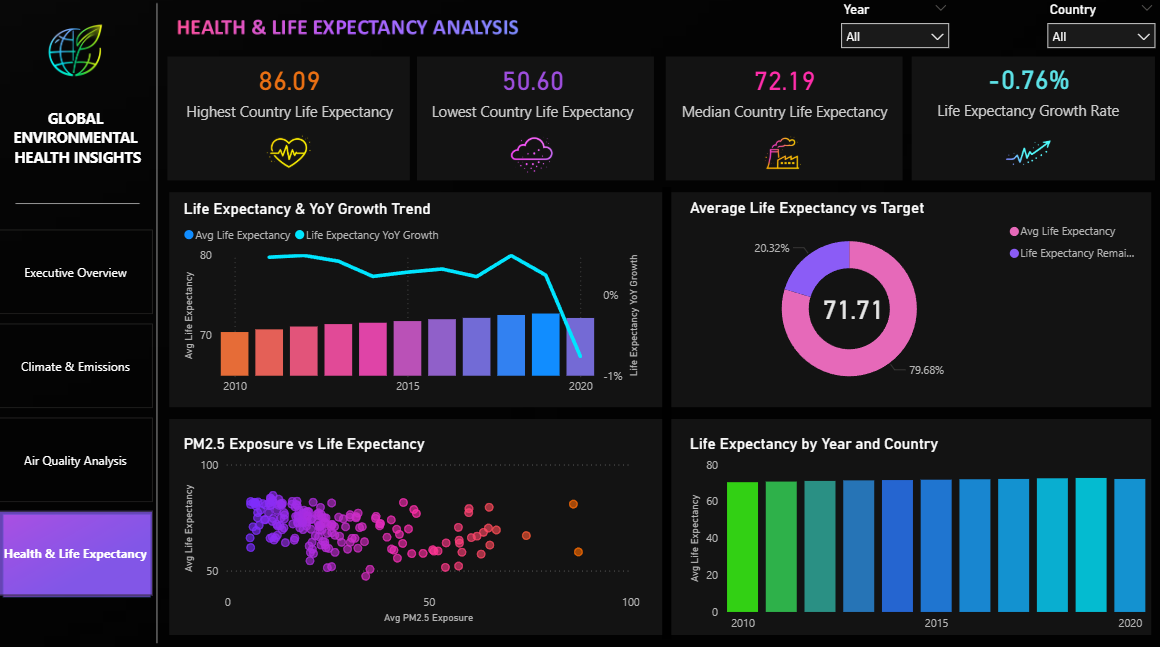

This screenshot's page, from the dashboard's own definition file:
{"tool":"powerbi","page":{"name":"Health & Life Expectancy","canvas":[1280,720],"ordinal":3},"visuals":[{"type":"pageNavigator","box":[0,255.2,170.2,403.4],"z":0},{"type":"image","box":[43.9,17.8,82.3,83.7],"z":1000},{"type":"textbox","box":[0,116.6,170.2,85.1],"z":2000},{"type":"card","fields":{"Values":["Calculated_Measures.Life Expectancy Growth Rate"]},"box":[1010,57.5,242.5,85],"z":3000},{"type":"card","fields":{"Values":["Calculated_Measures.Highest Country Life Expectancy"]},"box":[198.8,58.8,242.5,85],"z":4000},{"type":"card","fields":{"Values":["Calculated_Measures.Median Country Life Expectancy"]},"box":[742.5,58.8,242.5,85],"z":5000},{"type":"card","fields":{"Values":["Calculated_Measures.Lowest Country Life Expectancy"]},"box":[465,58.8,243.8,85],"z":6000},{"type":"lineClusteredColumnComboChart","title":"Life Expectancy & YoY Growth Trend","fields":{"Y":["Calculated_Measures.Avg Life Expectancy"],"Category":["Date_Table.Year"],"Y2":["Calculated_Measures.Life Expectancy YoY Growth"]},"box":[199,222.3,510.5,223.7],"z":7000},{"type":"donutChart","title":"Average Life Expectancy vs Target","fields":{"Y":["Calculated_Measures.Avg Life Expectancy","Calculated_Measures.Life Expectancy Remaining"]},"box":[755,221.2,510,223.8],"z":8000},{"type":"clusteredColumnChart","title":"Life Expectancy by Year and Country","fields":{"Category":["Date_Table.Year","Country_Table.Country"],"Y":["Calculated_Measures.Avg Life Expectancy"]},"box":[755,480,510,225],"z":9000},{"type":"scatterChart","title":"PM2.5 Exposure vs Life Expectancy","fields":{"X":["Calculated_Measures.Avg PM2.5 Exposure"],"Y":["Calculated_Measures.Avg Life Expectancy"],"Category":["Country_Table.Country"]},"box":[199,480.3,510.5,212.7],"z":10000},{"type":"image","box":[280,150,80,51.2],"z":11000},{"type":"image","box":[547.5,150,80,51.2],"z":12000},{"type":"image","box":[823.8,150,80,51.2],"z":13000},{"type":"image","box":[1091.2,150,80,51.2],"z":14000},{"type":"slicer","fields":{"Values":["Date_Table.Year"]},"box":[915,0,138.8,62.5],"z":15000},{"type":"slicer","fields":{"Values":["Country_Table.Country"]},"box":[1141.2,0,138.8,60],"z":16000},{"type":"card","fields":{"Values":["Calculated_Measures.Avg Life Expectancy"]},"box":[893.8,307.5,91.2,68.8],"z":17000},{"type":"shape","box":[725.9,208.6,16.5,496.7],"z":18000}]}

Visuals, with their boxes on the page's 1280x720 design canvas (x1, y1, x2, y2). These are canvas units, not pixel positions in the 1160x647 screenshot, which may show the page scaled, cropped or inside an application window:
pageNavigator: <box>0,255,170,659</box>
image: <box>44,18,126,102</box>
textbox: <box>0,117,170,202</box>
card - Calculated_Measures.Life Expectancy Growth Rate: <box>1010,58,1252,142</box>
card - Calculated_Measures.Highest Country Life Expectancy: <box>199,59,441,144</box>
card - Calculated_Measures.Median Country Life Expectancy: <box>742,59,985,144</box>
card - Calculated_Measures.Lowest Country Life Expectancy: <box>465,59,709,144</box>
"Life Expectancy & YoY Growth Trend" lineClusteredColumnComboChart: <box>199,222,710,446</box>
"Average Life Expectancy vs Target" donutChart: <box>755,221,1265,445</box>
"Life Expectancy by Year and Country" clusteredColumnChart: <box>755,480,1265,705</box>
"PM2.5 Exposure vs Life Expectancy" scatterChart: <box>199,480,710,693</box>
image: <box>280,150,360,201</box>
image: <box>548,150,628,201</box>
image: <box>824,150,904,201</box>
image: <box>1091,150,1171,201</box>
slicer - Date_Table.Year: <box>915,0,1054,62</box>
slicer - Country_Table.Country: <box>1141,0,1280,60</box>
card - Calculated_Measures.Avg Life Expectancy: <box>894,308,985,376</box>
shape: <box>726,209,742,705</box>
